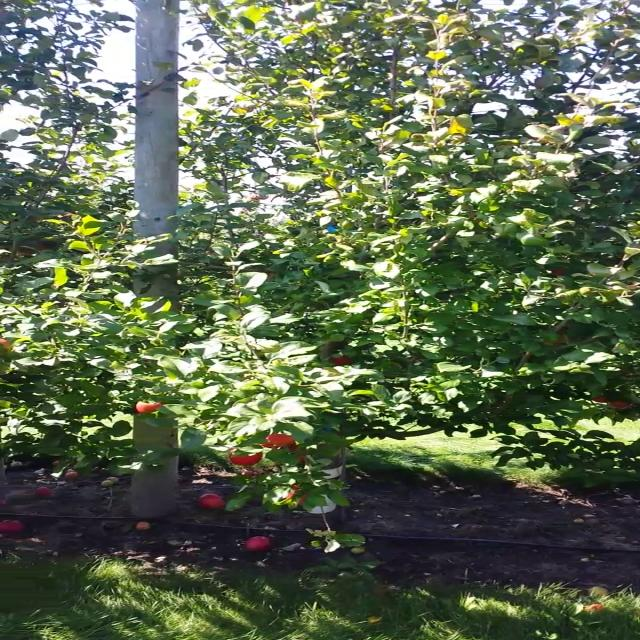apple: (226, 447, 265, 465), (260, 433, 295, 449), (132, 399, 164, 415), (284, 442, 306, 464), (286, 483, 308, 505), (602, 398, 633, 408), (329, 356, 355, 366), (550, 267, 566, 275), (590, 394, 606, 402), (0, 338, 8, 346)
